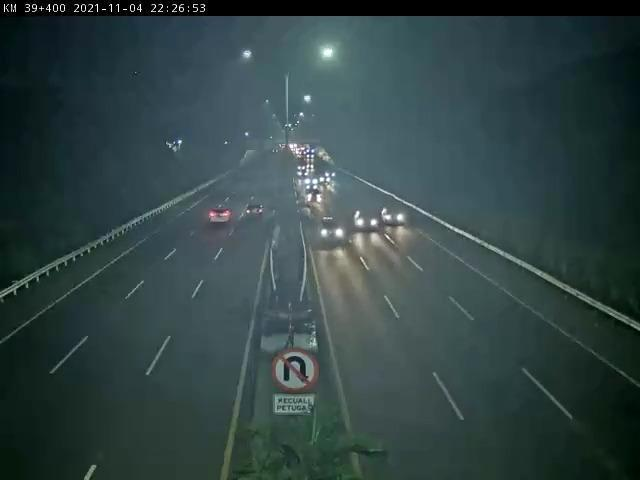car: (319, 217, 344, 243), (355, 209, 380, 234), (209, 205, 234, 225), (383, 206, 404, 229), (245, 202, 270, 221)
